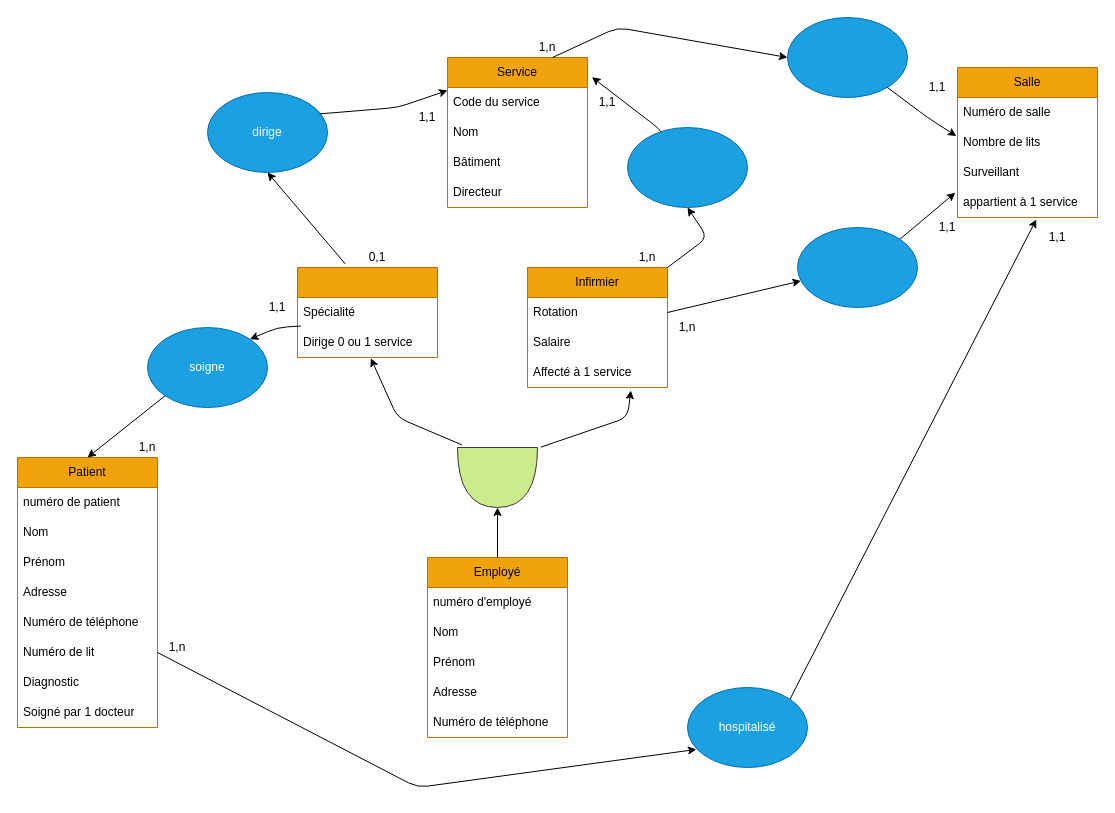
Image size: 1115x813. Some labels were removed from this diagram. The shapes that lost their labels are listed below. From the top down, each one's box as (x1, y1, x2, y2) in pixels, then its label:
(786, 16, 908, 98): comprend
(626, 126, 748, 208): affecté
(796, 226, 918, 308): surveille
(296, 266, 438, 358): Docteur
